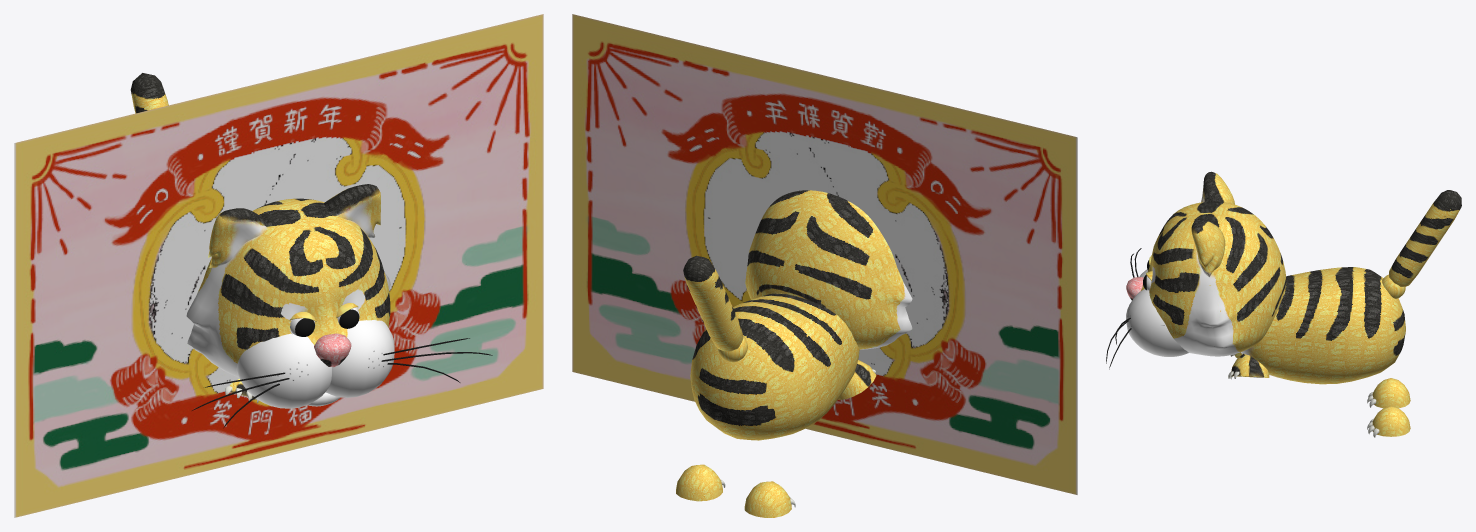
Rendered from tiger_01_1228.gltf.
3 renders of one model, left to right at view 1: azimuth 30°, elevation 25°; view 2: azimuth 150°, elevation 25°; view 3: azimuth 270°, elevation 25°, orthographic. The views are drawn at different scales.
Parts seen in each view (by area): view 1: cardBG, catHead, catrightCheak, catleftCheak, catleftEarL, catleftEarR1, catTale, catNose; view 2: cardBG, catBody, catHead, catTale, catleftLeg, catrightLeg, catrightArm; view 3: catHead, catBody, catTale, catleftCheak, catleftEarR1, catleftLeg, catrightLeg, catleftEarL, catleftArm.
Part boxes in pixels (x1,y1,x2,y2): cardBG: [14, 14, 543, 517]; catHead: [186, 198, 390, 377]; catrightCheak: [236, 333, 331, 408]; catleftCheak: [325, 320, 394, 397]; catleftEarL: [208, 208, 266, 267]; catleftEarR1: [324, 184, 380, 237]; catTale: [130, 73, 168, 113]; catNose: [314, 333, 351, 367]; cardBG: [572, 14, 1077, 494]; catBody: [690, 293, 859, 440]; catHead: [745, 190, 912, 349]; catTale: [683, 255, 743, 351]; catleftLeg: [676, 464, 722, 501]; catrightLeg: [744, 481, 791, 517]; catrightArm: [838, 360, 876, 399]; catHead: [1141, 202, 1286, 356]; catBody: [1241, 267, 1405, 384]; catTale: [1389, 190, 1461, 287]; catleftCheak: [1126, 289, 1188, 356]; catleftEarR1: [1191, 219, 1225, 276]; catleftLeg: [1372, 406, 1410, 436]; catrightLeg: [1372, 378, 1410, 408]; catleftEarL: [1201, 171, 1234, 204]; catleftArm: [1231, 353, 1269, 377].
Bounding box in the file's own units: 25.77 × 17.53 × 18.84.
